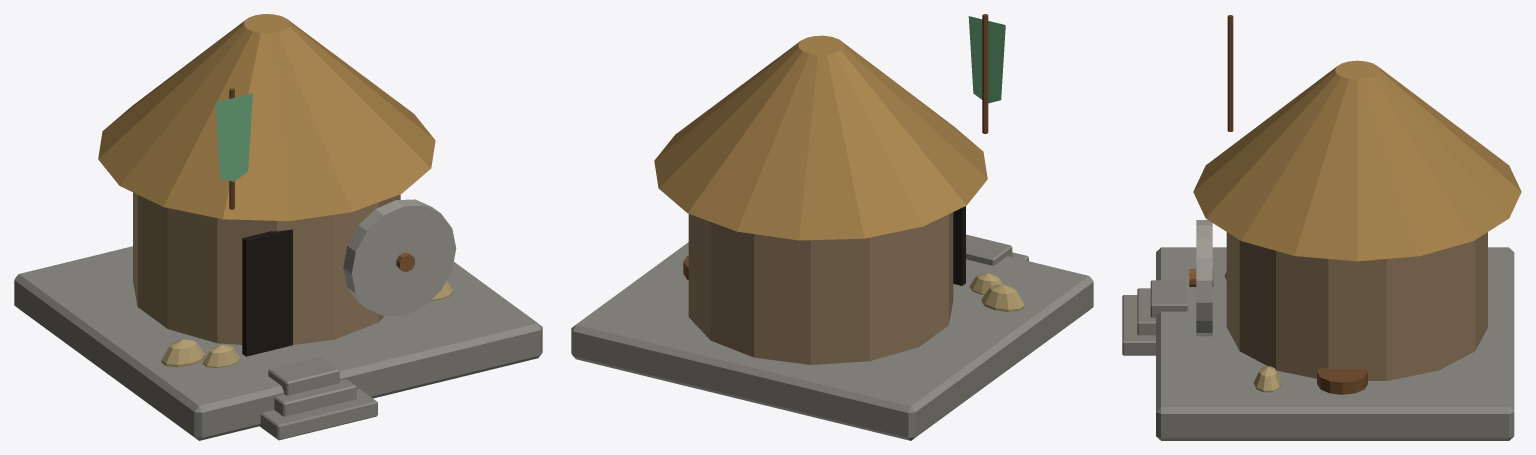
The model's file is edificio-farm-e0-WIZd8M38.glb.
3 renders of one model, left to right at view 1: azimuth 30°, elevation 25°; view 2: azimuth 150°, elevation 25°; view 3: azimuth 270°, elevation 25°, orthographic. The views are drawn at different scales.
Parts seen in each view (by area): view 1: molino_e0_envolvente, rotor_molino, molino_e0_team_color; view 2: molino_e0_envolvente, molino_e0_team_color; view 3: molino_e0_envolvente, rotor_molino.
Part boxes in pixels (box(x1,y1,x2,y2)): molino_e0_envolvente: box(14, 14, 542, 440); rotor_molino: box(343, 199, 456, 316); molino_e0_team_color: box(215, 93, 252, 181); molino_e0_envolvente: box(571, 14, 1093, 440); molino_e0_team_color: box(968, 16, 1005, 103); molino_e0_envolvente: box(1122, 15, 1521, 440); rotor_molino: box(1189, 220, 1213, 336).
Bounding box in the file's own units: 52 × 44 × 53.5.
